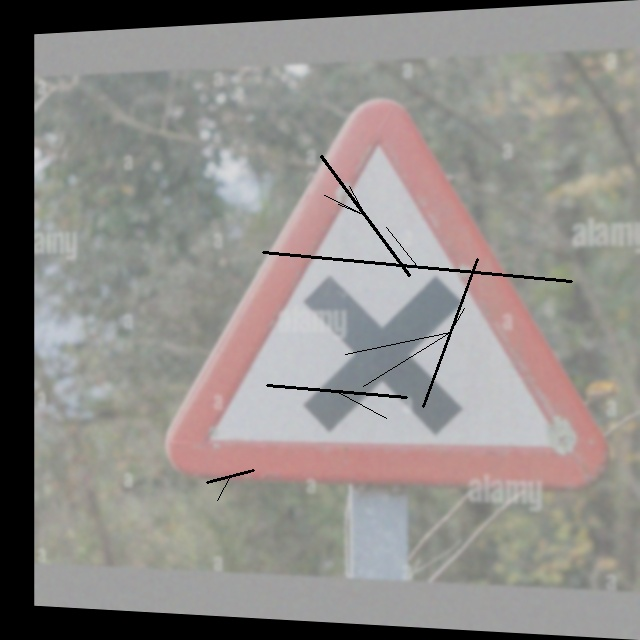Cross_Road: (173, 89, 606, 490)
